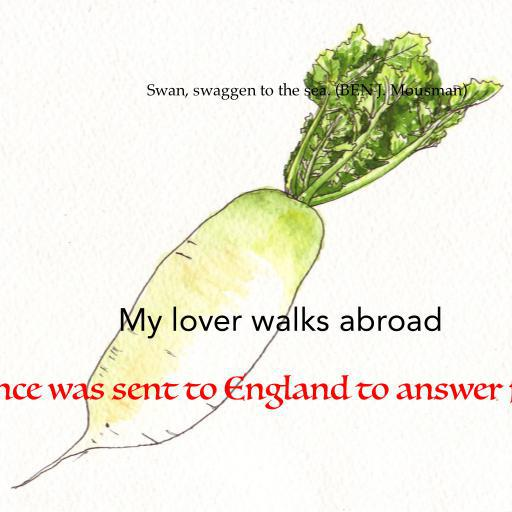Avenir: (117, 306, 443, 339)
Luminari: (0, 373, 512, 410)
Palatino: (147, 82, 467, 100)
